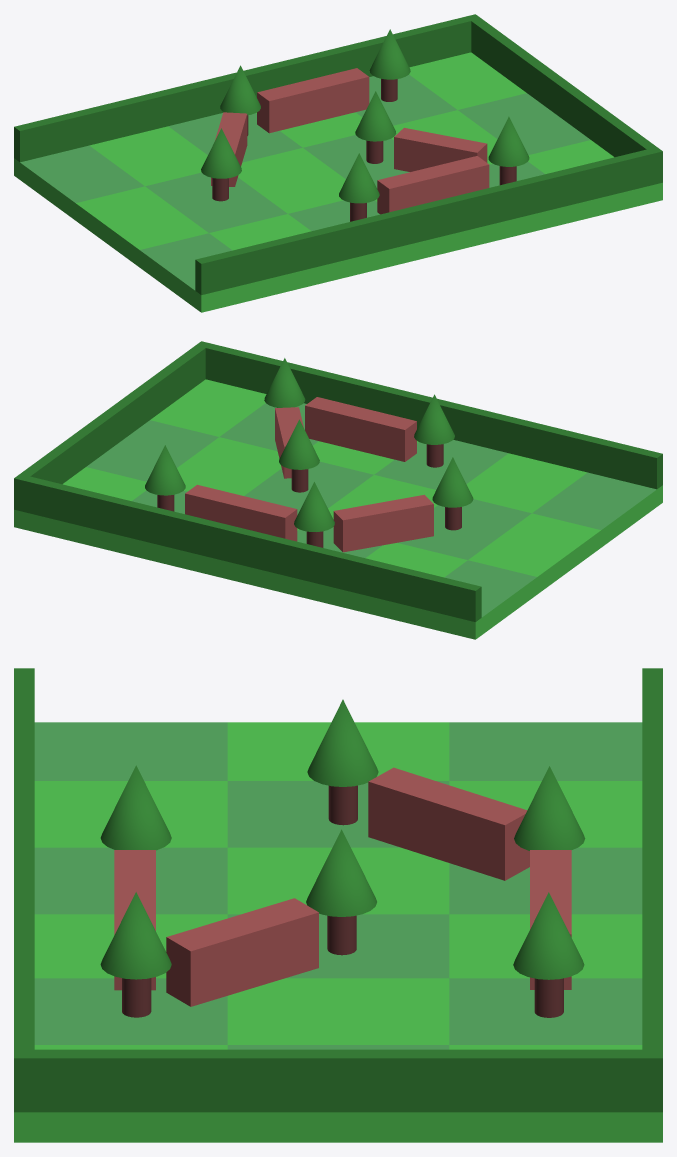
File: tree2.fbx
The picture shows the model from 3 angles, top to bottom: view 1: azimuth 30°, elevation 25°; view 2: azimuth 150°, elevation 25°; view 3: azimuth 270°, elevation 25°; orthographic projection. The views are drawn at different scales.
Parts seen in each view (by area): view 1: pasted__pCube7, pasted__pasted__pCone2 (×6), pasted__pCube8 (×3), pCube8; view 2: pasted__pCube7, pasted__pCube8 (×3), pasted__pasted__pCone2 (×6), pCube8; view 3: pasted__pCube7, pasted__pCube8 (×3), pasted__pasted__pCone2 (×6), pCube8.
Boxes of the visible parts, x1=… form: pasted__pCube7: x1=14, y1=14, x2=662, y2=312; pasted__pasted__pCone2 (×6): x1=201, y1=29, x2=529, y2=221; pasted__pCube8 (×3): x1=211, y1=68, x2=487, y2=186; pCube8: x1=377, y1=156, x2=489, y2=214; pasted__pCube7: x1=14, y1=341, x2=662, y2=639; pasted__pCube8 (×3): x1=185, y1=407, x2=433, y2=552; pasted__pasted__pCone2 (×6): x1=145, y1=358, x2=473, y2=547; pCube8: x1=305, y1=397, x2=416, y2=461; pasted__pCube7: x1=14, y1=668, x2=662, y2=1142; pasted__pCube8 (×3): x1=166, y1=767, x2=571, y2=1006; pasted__pasted__pCone2 (×6): x1=100, y1=699, x2=585, y2=1017; pCube8: x1=114, y1=850, x2=155, y2=990.
Size of the model in its own units: 22.4 by 4.04 by 15.75.
